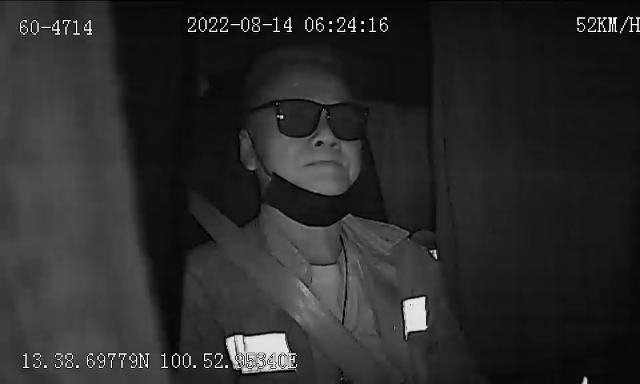Seatbelt: (188, 188, 394, 384)
